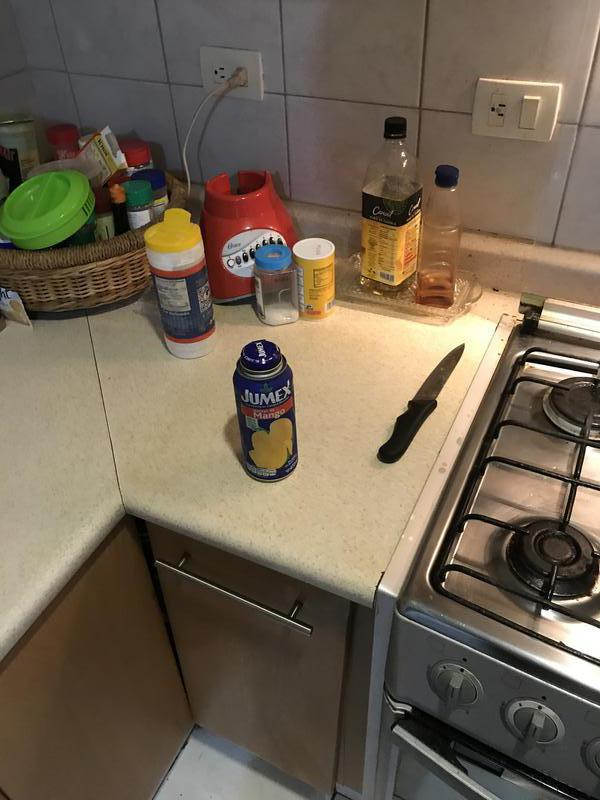jugo_jumex: (232, 344, 302, 484)
